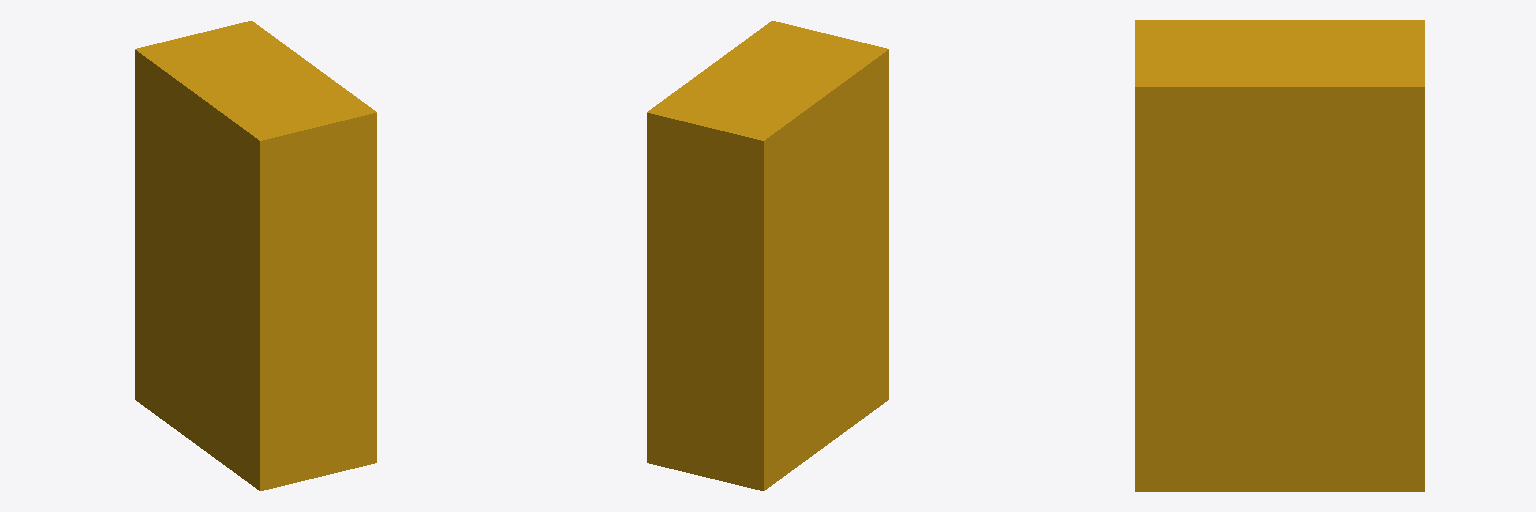
The robot description file, URDF, robot "crackers":
<?xml version="1.0" ?>
<!-- Crackers: box 7cm deep x 13cm wide x 20cm tall -->
<robot name="crackers">
  <link name="crackers_link">
    <visual>
      <geometry>
        <box size="0.07 0.13 0.20"/>
      </geometry>
      <material name="crackers_color">
        <color rgba="0.85 0.65 0.13 1.0"/>
      </material>
    </visual>
    <collision>
      <geometry>
        <box size="0.07 0.13 0.20"/>
      </geometry>
    </collision>
    <inertial>
      <mass value="0.3"/>
      <inertia ixx="0.001" ixy="0.0" ixz="0.0" iyy="0.001" iyz="0.0" izz="0.001"/>
    </inertial>
  </link>
</robot>

--- Render facts (derived) ---
3 views of the same robot in one strip: view 1: azimuth 30°, elevation 25°; view 2: azimuth 150°, elevation 25°; view 3: azimuth 270°, elevation 25° (orthographic).
Robot: crackers — 1 links, 0 joints (none); root link crackers_link; default pose: every joint at zero.
Links seen in each view (by area): view 1: crackers_link; view 2: crackers_link; view 3: crackers_link.
Boxes of the visible links, x1,y1,x2,y2 form: crackers_link: (135,21,376,490); crackers_link: (647,21,888,490); crackers_link: (1135,20,1424,491).
Size in the robot's own frame: 0.07 by 0.13 by 0.2 metres.
Geometry: primitives only (box / cylinder / sphere), no mesh files.
